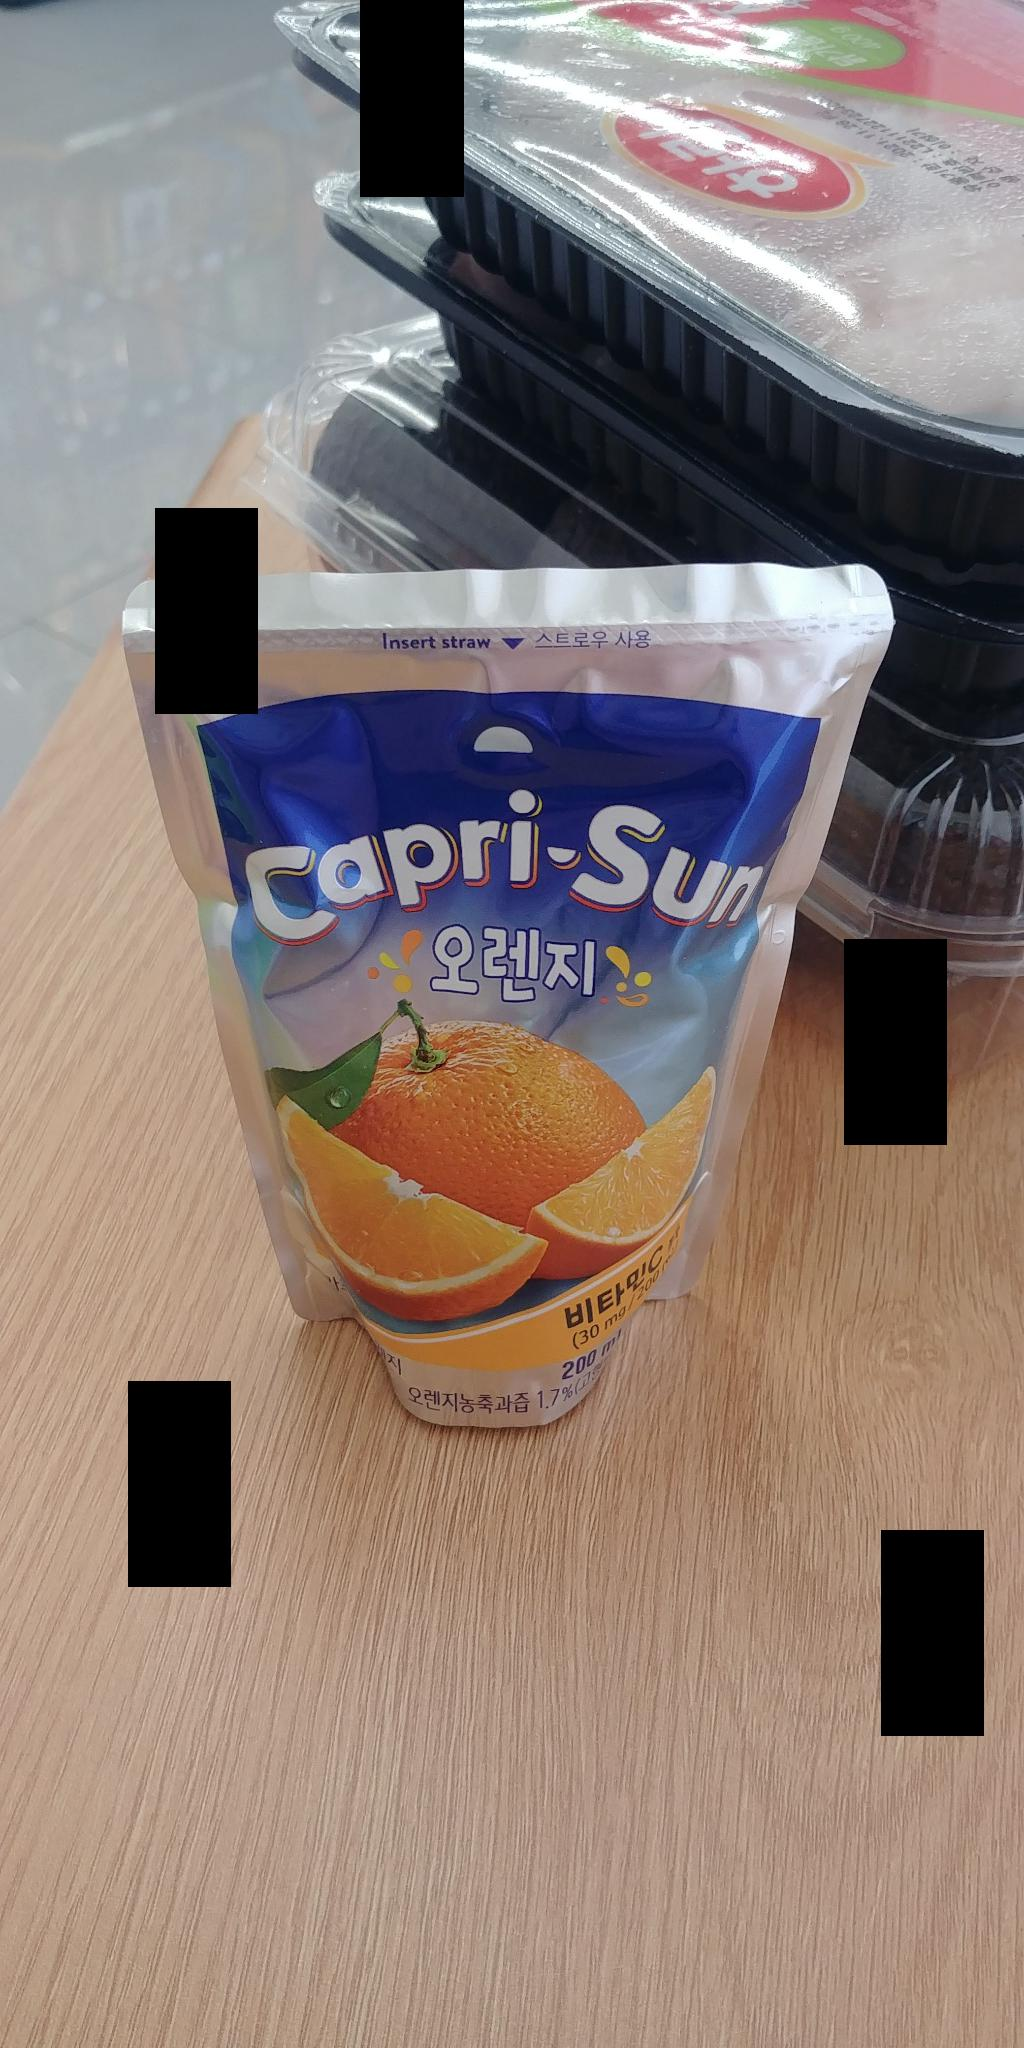cafrisun: (121, 526, 880, 1484)
